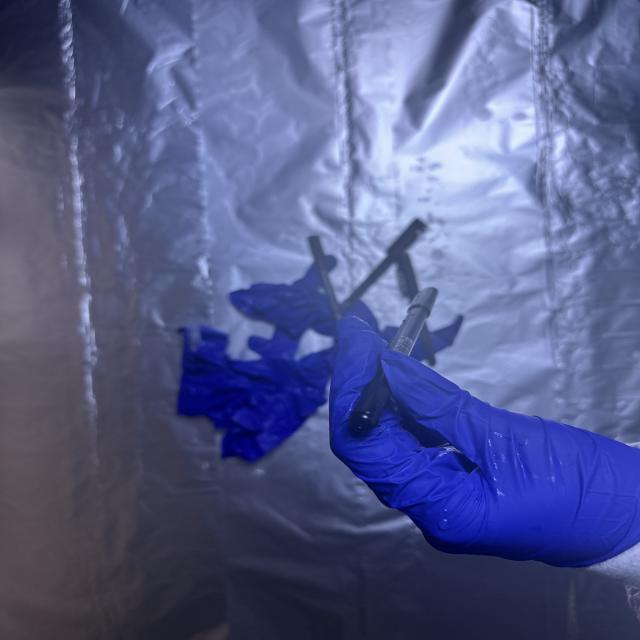gloves_contaminated: (329, 317, 640, 567)
